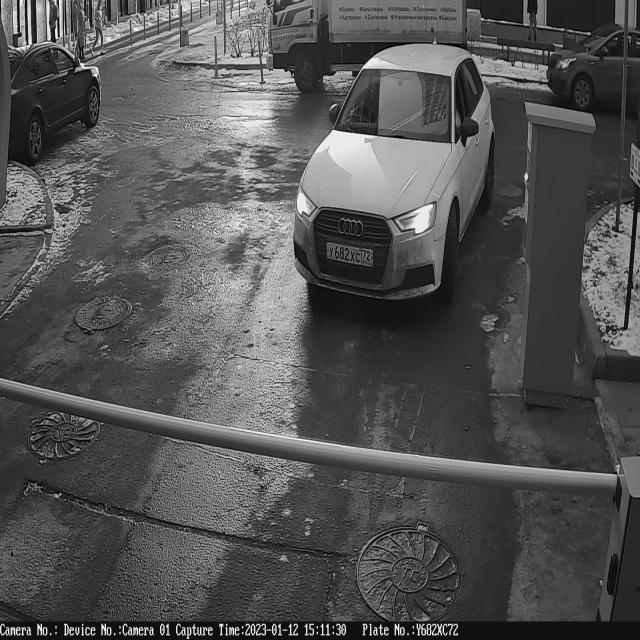car-plate-numbers: (325, 235, 377, 276)
